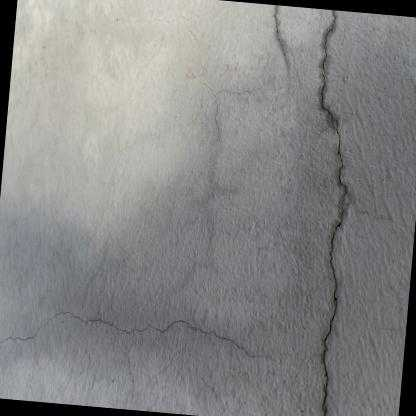crack: (0, 311, 254, 359), (323, 120, 346, 416), (321, 10, 336, 120), (275, 5, 278, 36)
